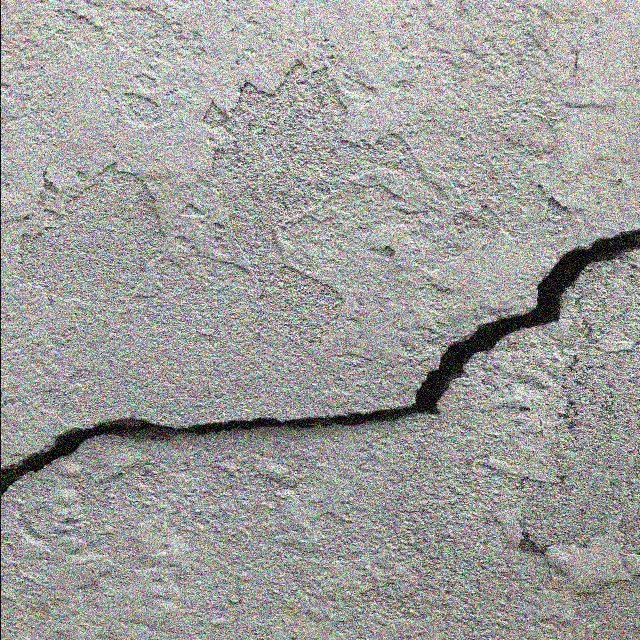SurfaceCrack: (0, 186, 639, 535)
